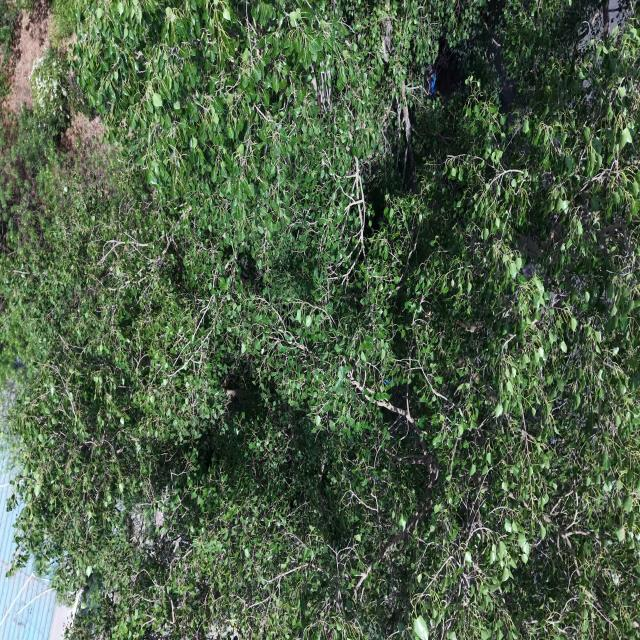DRY_AREA: (5, 3, 50, 113), (6, 4, 50, 112)
VEGETATION_TREE: (0, 0, 639, 639)
